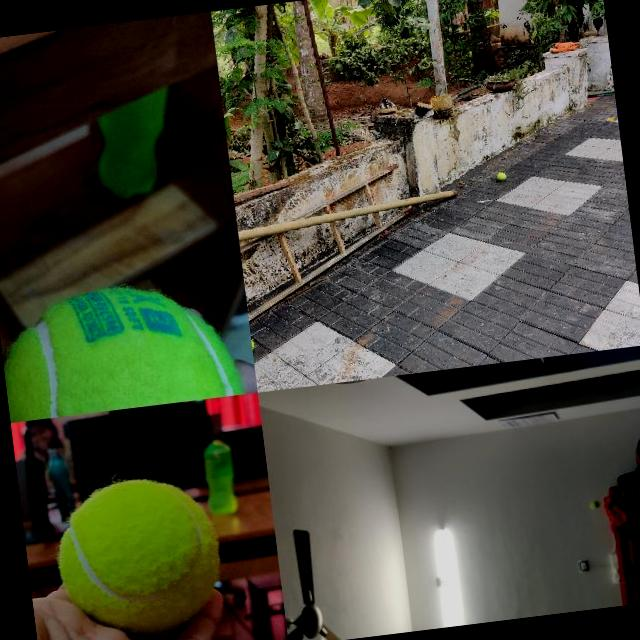Tennis Ball: (0, 273, 241, 421), (48, 470, 226, 640), (588, 500, 599, 510), (496, 172, 506, 182)
